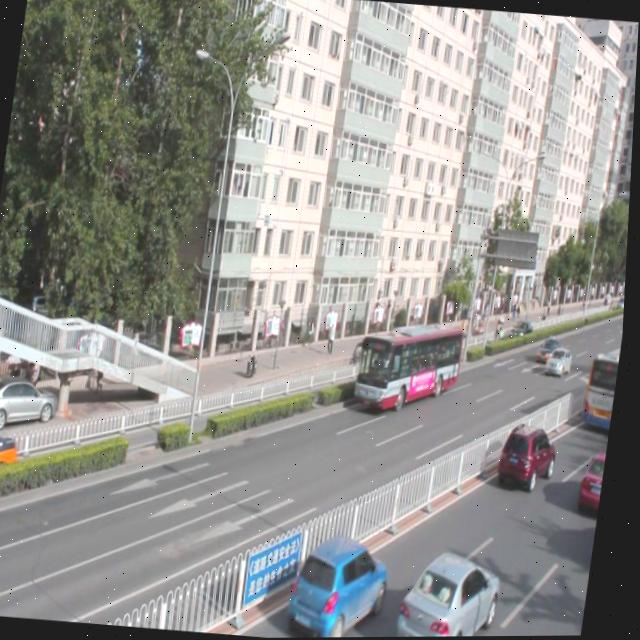car: (291, 530, 396, 638), (399, 546, 507, 638), (500, 421, 563, 490), (578, 448, 611, 514), (0, 428, 25, 486)
van: (358, 314, 467, 412), (585, 354, 623, 431)
